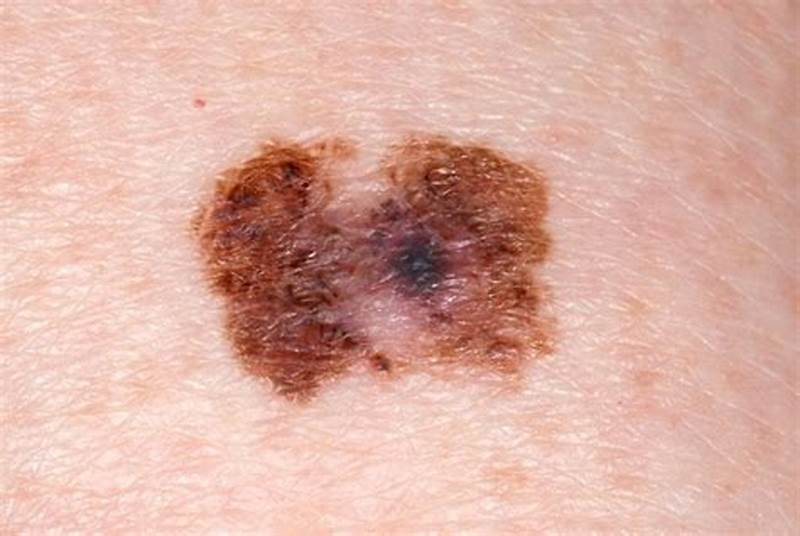Melanoma: (193, 134, 556, 409)
